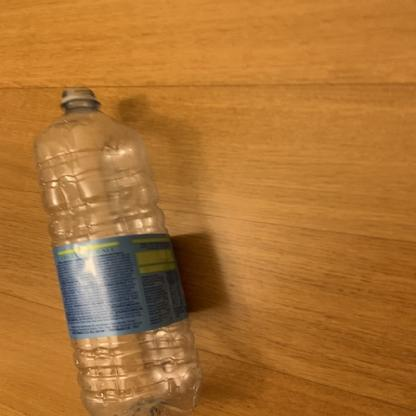trash: (34, 87, 210, 416)
